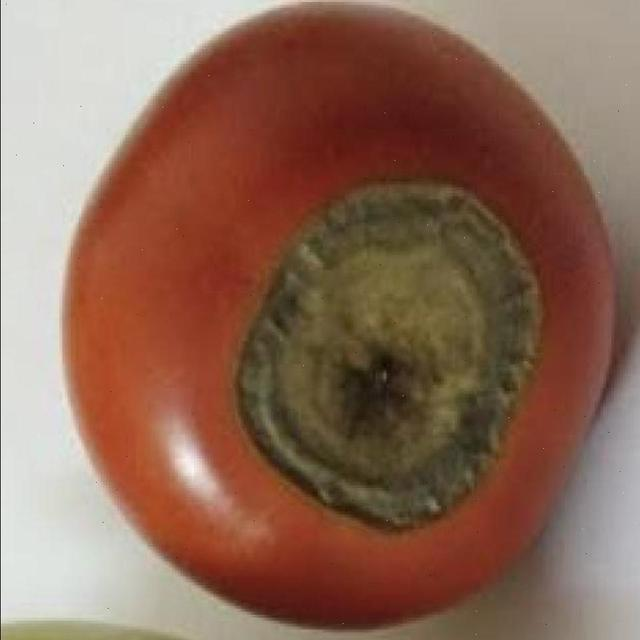Blossom End Rot Fruit: (160, 89, 385, 363)
